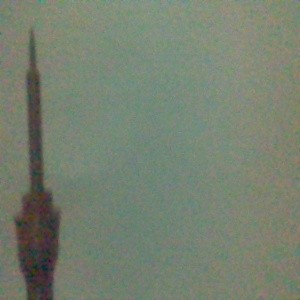solder: (14, 29, 63, 300)
